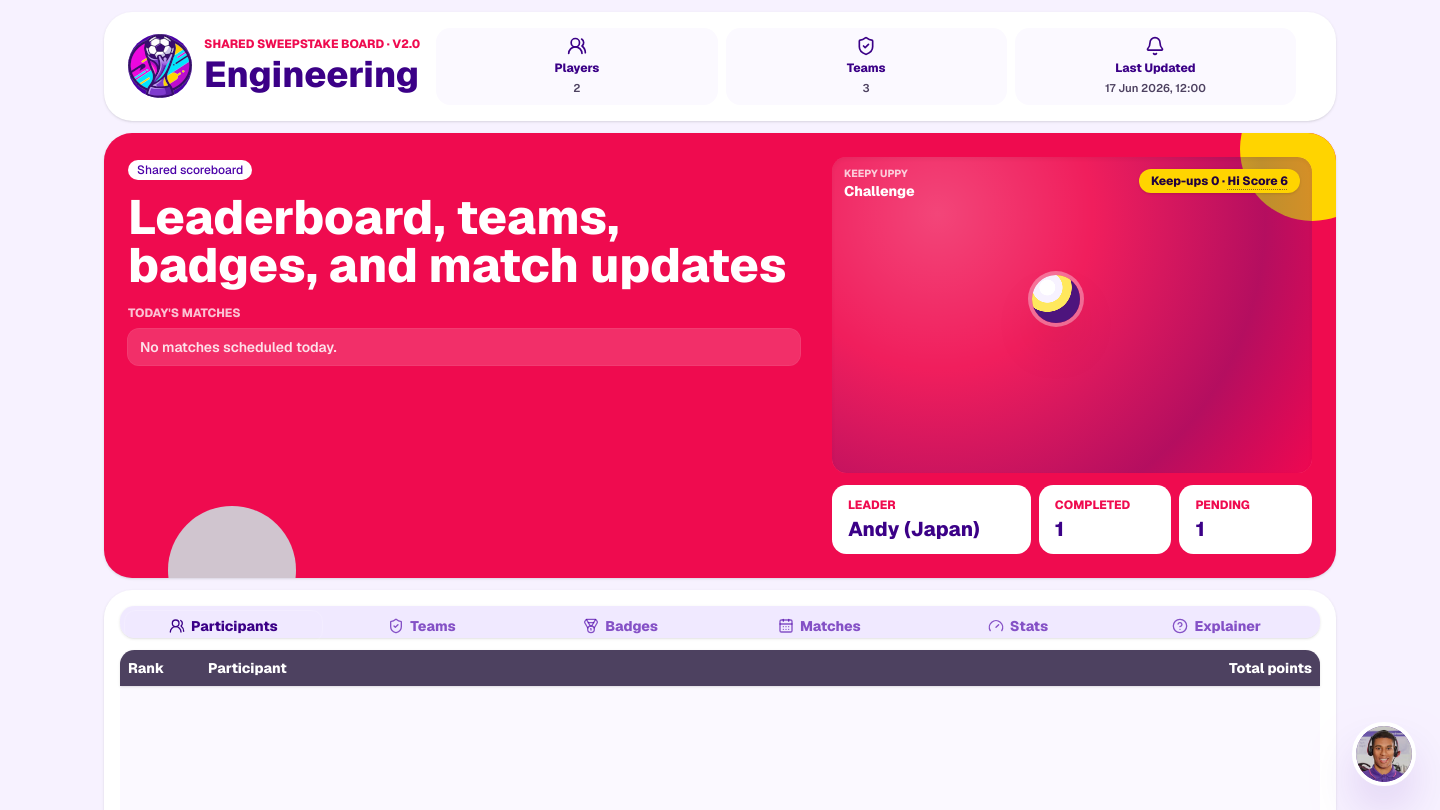
AlternativeBoard › asks for a player name when a completed streak makes the top 10
Press the mouse on the button named "Keep Andy's ball up" at (1056, 299), box [1032,275,1080,323]
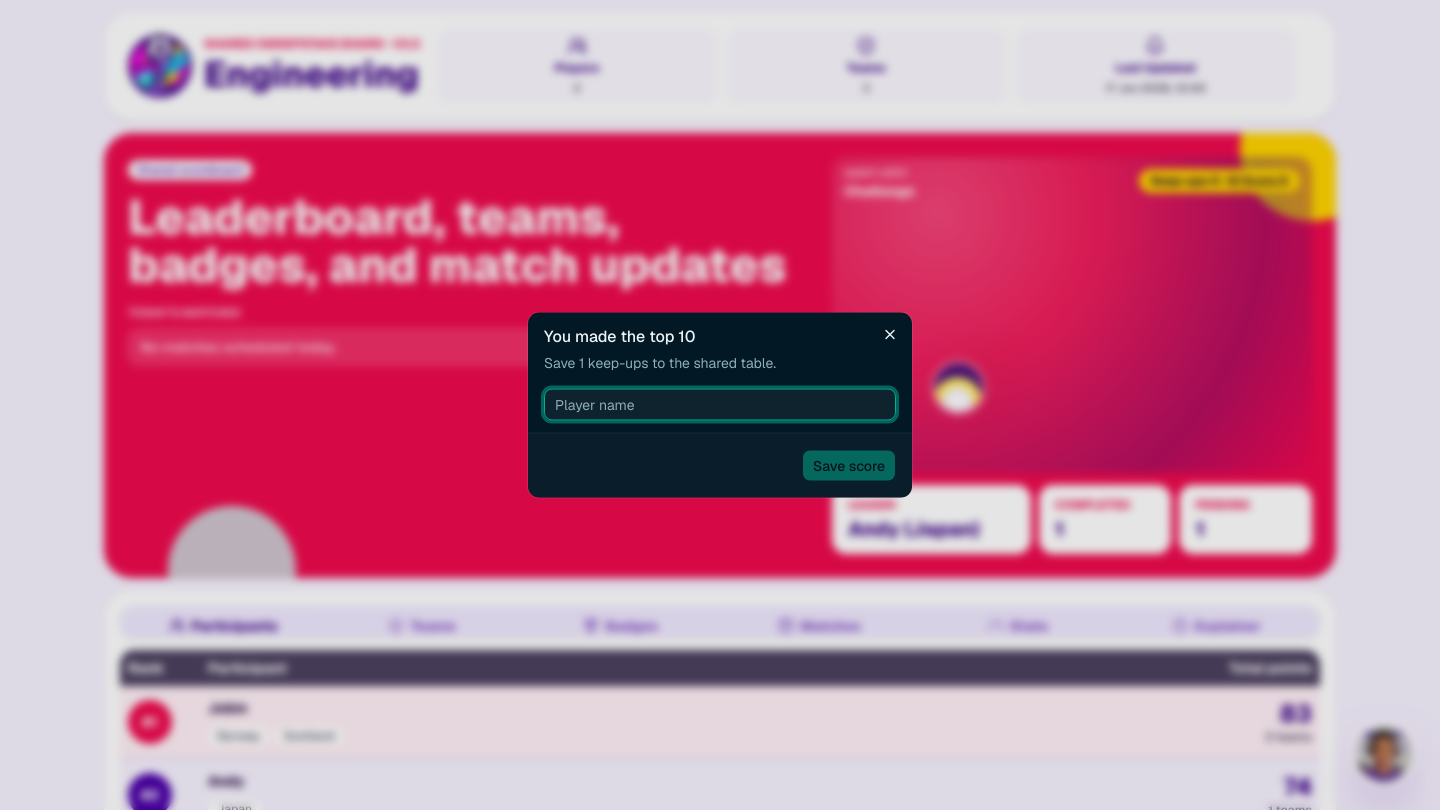
Now the dialog "You made the top 10" is shown, box [528,312,912,498]
Now the field labelled "Player name" is shown, box [544,388,896,420]
